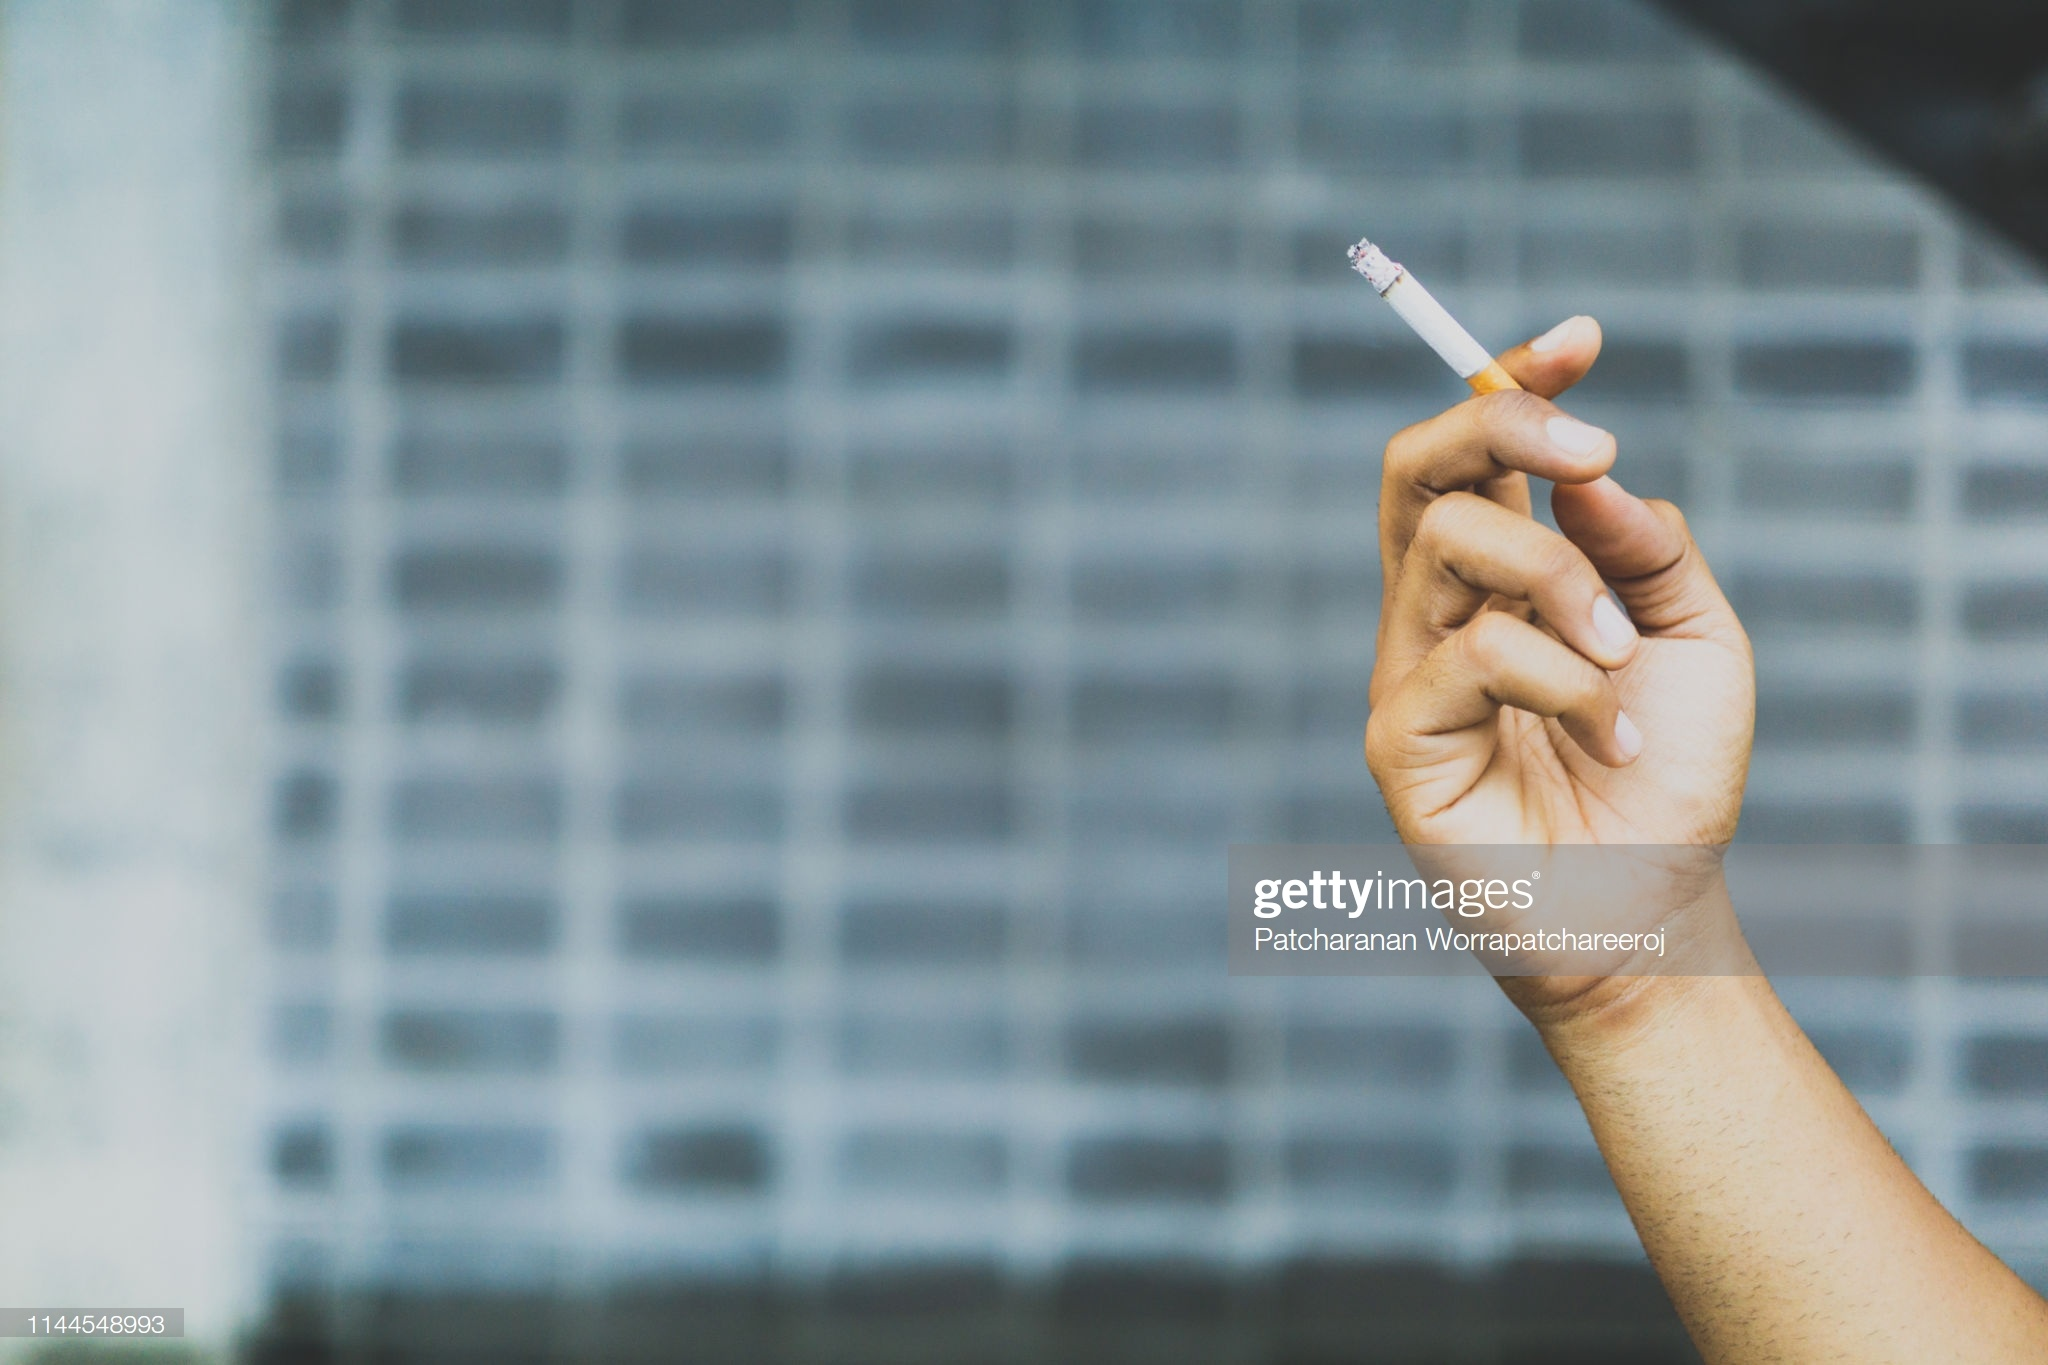sigaretta: (1341, 232, 1546, 449)
